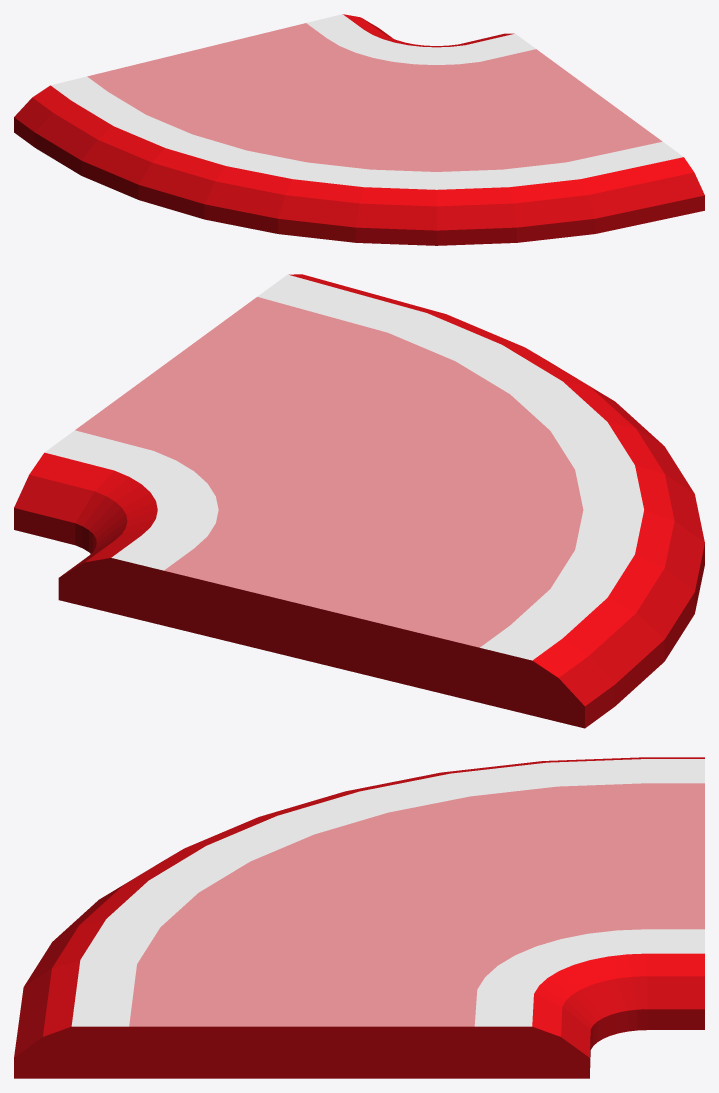
The picture shows the model from 3 angles, top to bottom: view 1: azimuth 30°, elevation 25°; view 2: azimuth 150°, elevation 25°; view 3: azimuth 270°, elevation 25°; orthographic projection. The views are drawn at different scales.
Parts seen in each view (by area): view 1: RoadTurn; view 2: RoadTurn; view 3: RoadTurn.
Boxes of the visible parts, <box> form: RoadTurn: <box>14,14,704,245</box>; RoadTurn: <box>14,274,704,728</box>; RoadTurn: <box>14,757,704,1078</box>.
Size of the model in its own units: 12 by 1 by 12.
